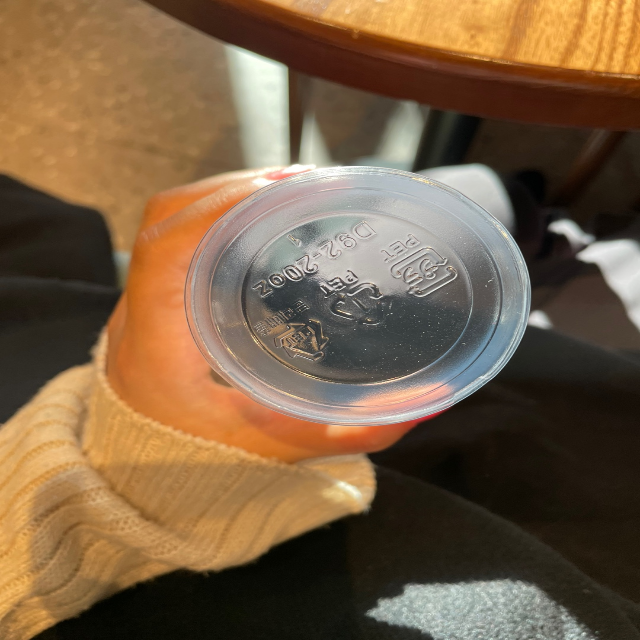pet: (248, 290, 326, 370), (376, 230, 461, 300), (319, 267, 389, 334)
